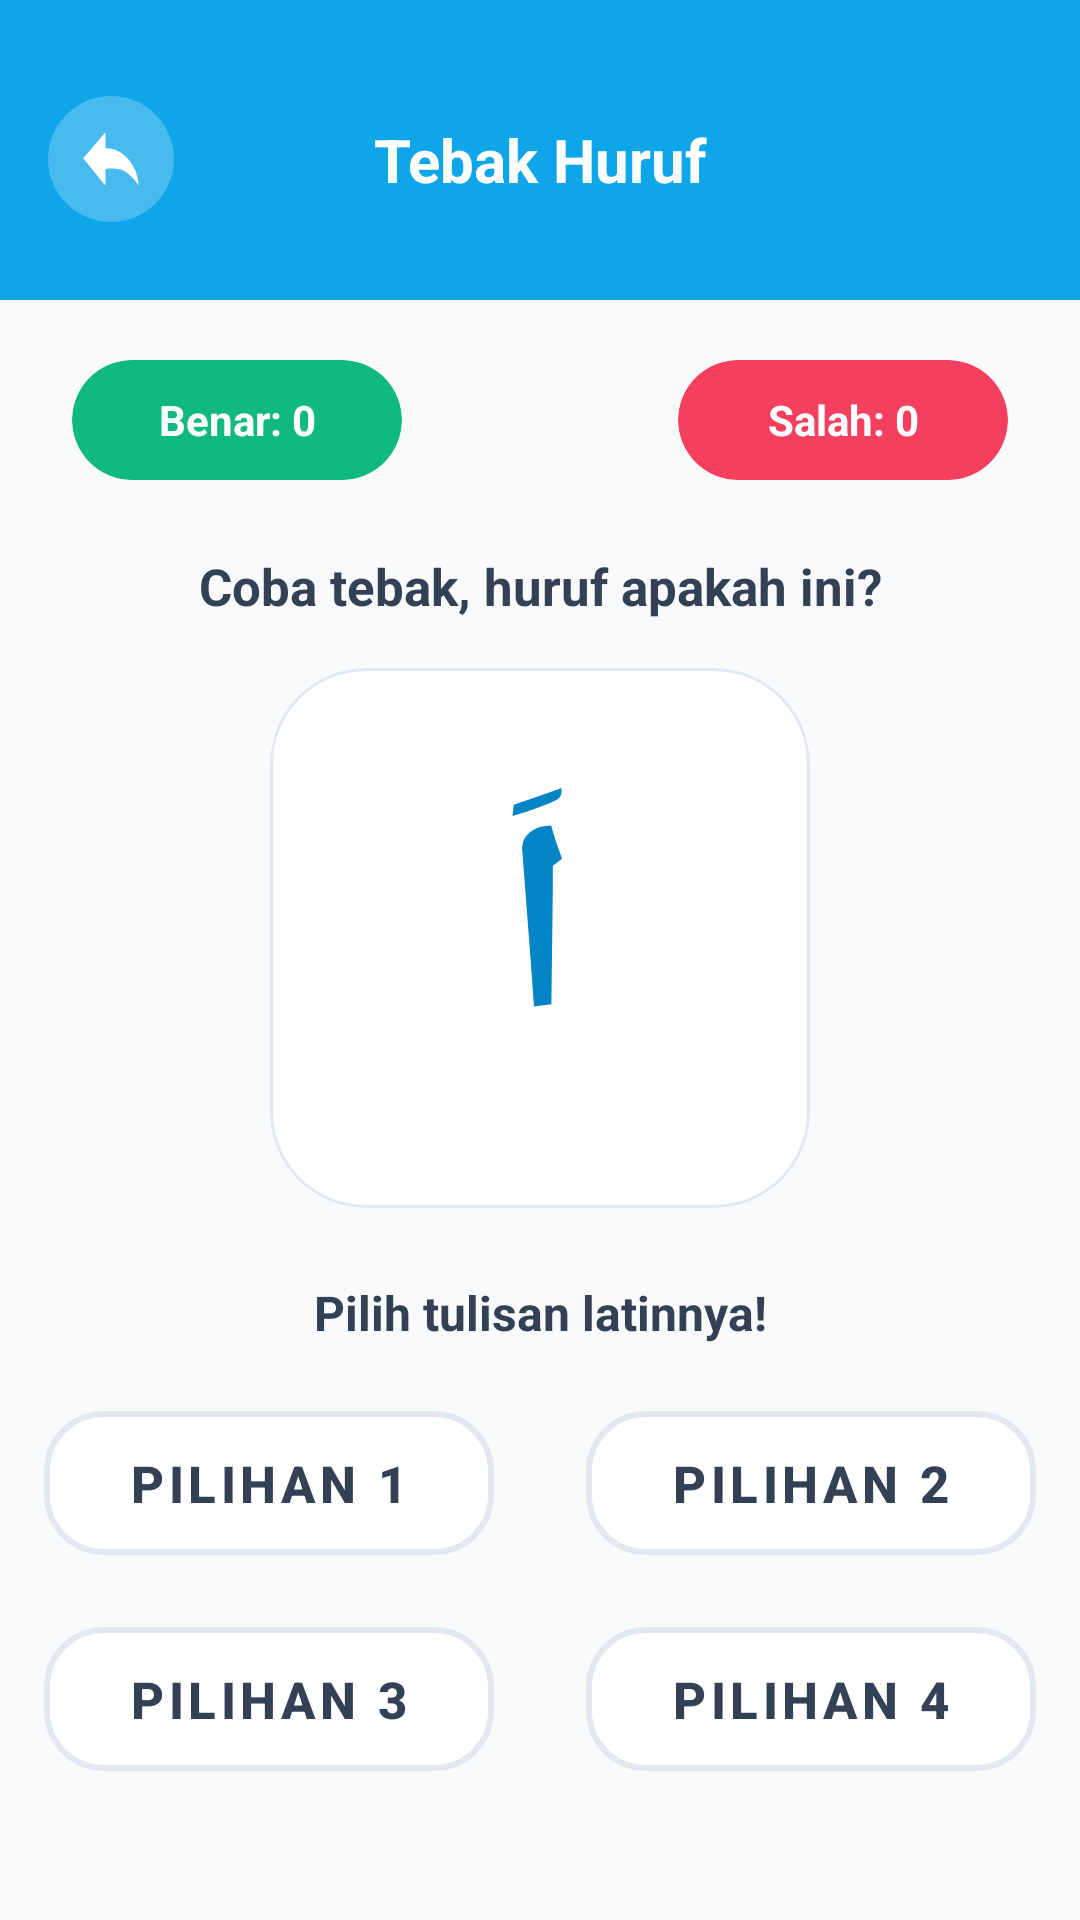

Named icons in this screenshot (1080px×1920px) and their centers, (x=x, y=y):
back: (x=111, y=159)
